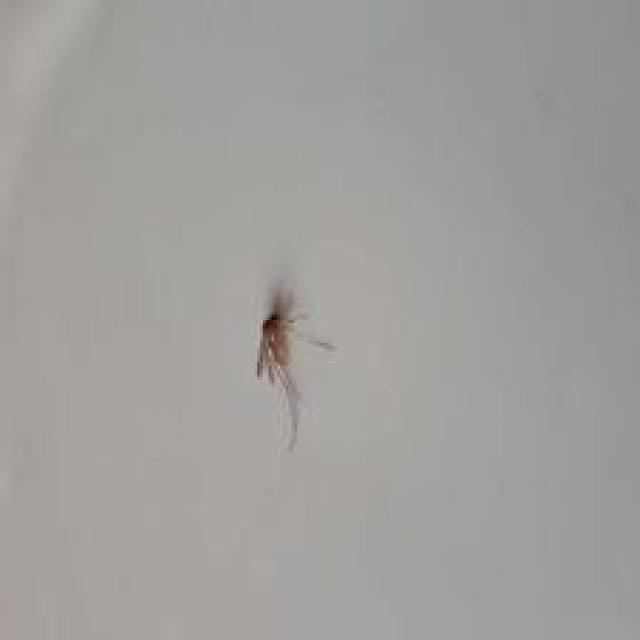Culex: (253, 276, 338, 453)
